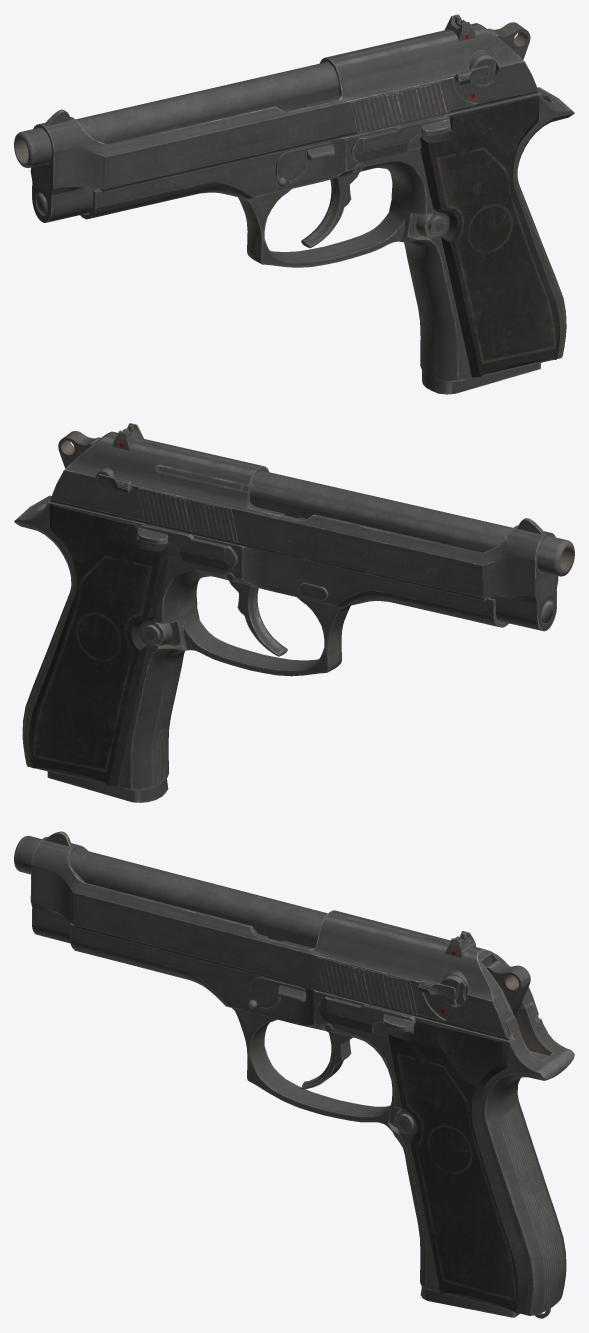
The model's file is beretta_m9.glb.
The picture shows the model from 3 angles, top to bottom: view 1: azimuth 30°, elevation 25°; view 2: azimuth 150°, elevation 25°; view 3: azimuth 330°, elevation 25°; orthographic projection.
Visible parts, largest first — view 1: Gun, Magazine; view 2: Gun, Magazine; view 3: Gun, Magazine.
Part boxes in pixels (x1,y1,x2,y2): Gun: [14, 14, 574, 393]; Magazine: [422, 363, 540, 394]; Gun: [14, 423, 574, 801]; Magazine: [47, 771, 168, 802]; Gun: [14, 831, 574, 1318]; Magazine: [427, 1293, 519, 1317].
Size of the model in its own units: 0.2172 by 0.1418 by 0.032.
Materials: 1 (1 with a texture image).
